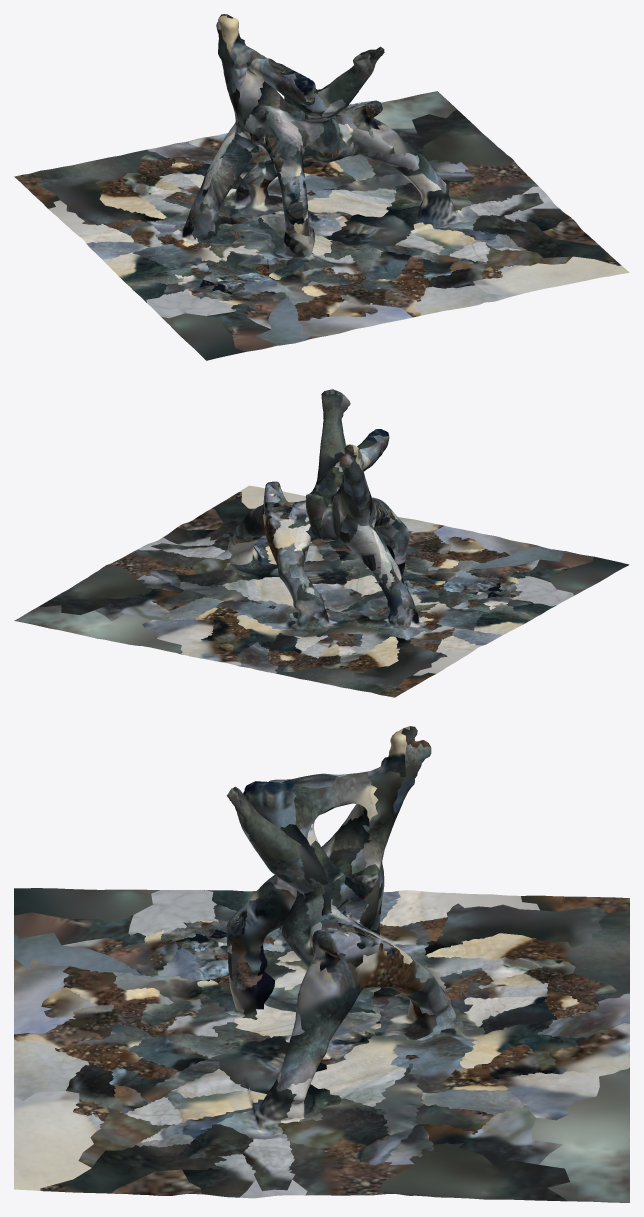
Rendered from helreidin.obj.
3 renders of one model, top to bottom at view 1: azimuth 30°, elevation 25°; view 2: azimuth 150°, elevation 25°; view 3: azimuth 270°, elevation 25°, orthographic. The views are drawn at different scales.
Visible parts, largest first — view 1: Object; view 2: Object; view 3: Object.
Boxes of the visible parts, bbox=[...] form: Object: bbox=[14, 14, 629, 360]; Object: bbox=[14, 389, 629, 697]; Object: bbox=[14, 726, 629, 1202].
Size of the model in its own units: 10.86 by 4.87 by 9.31.
